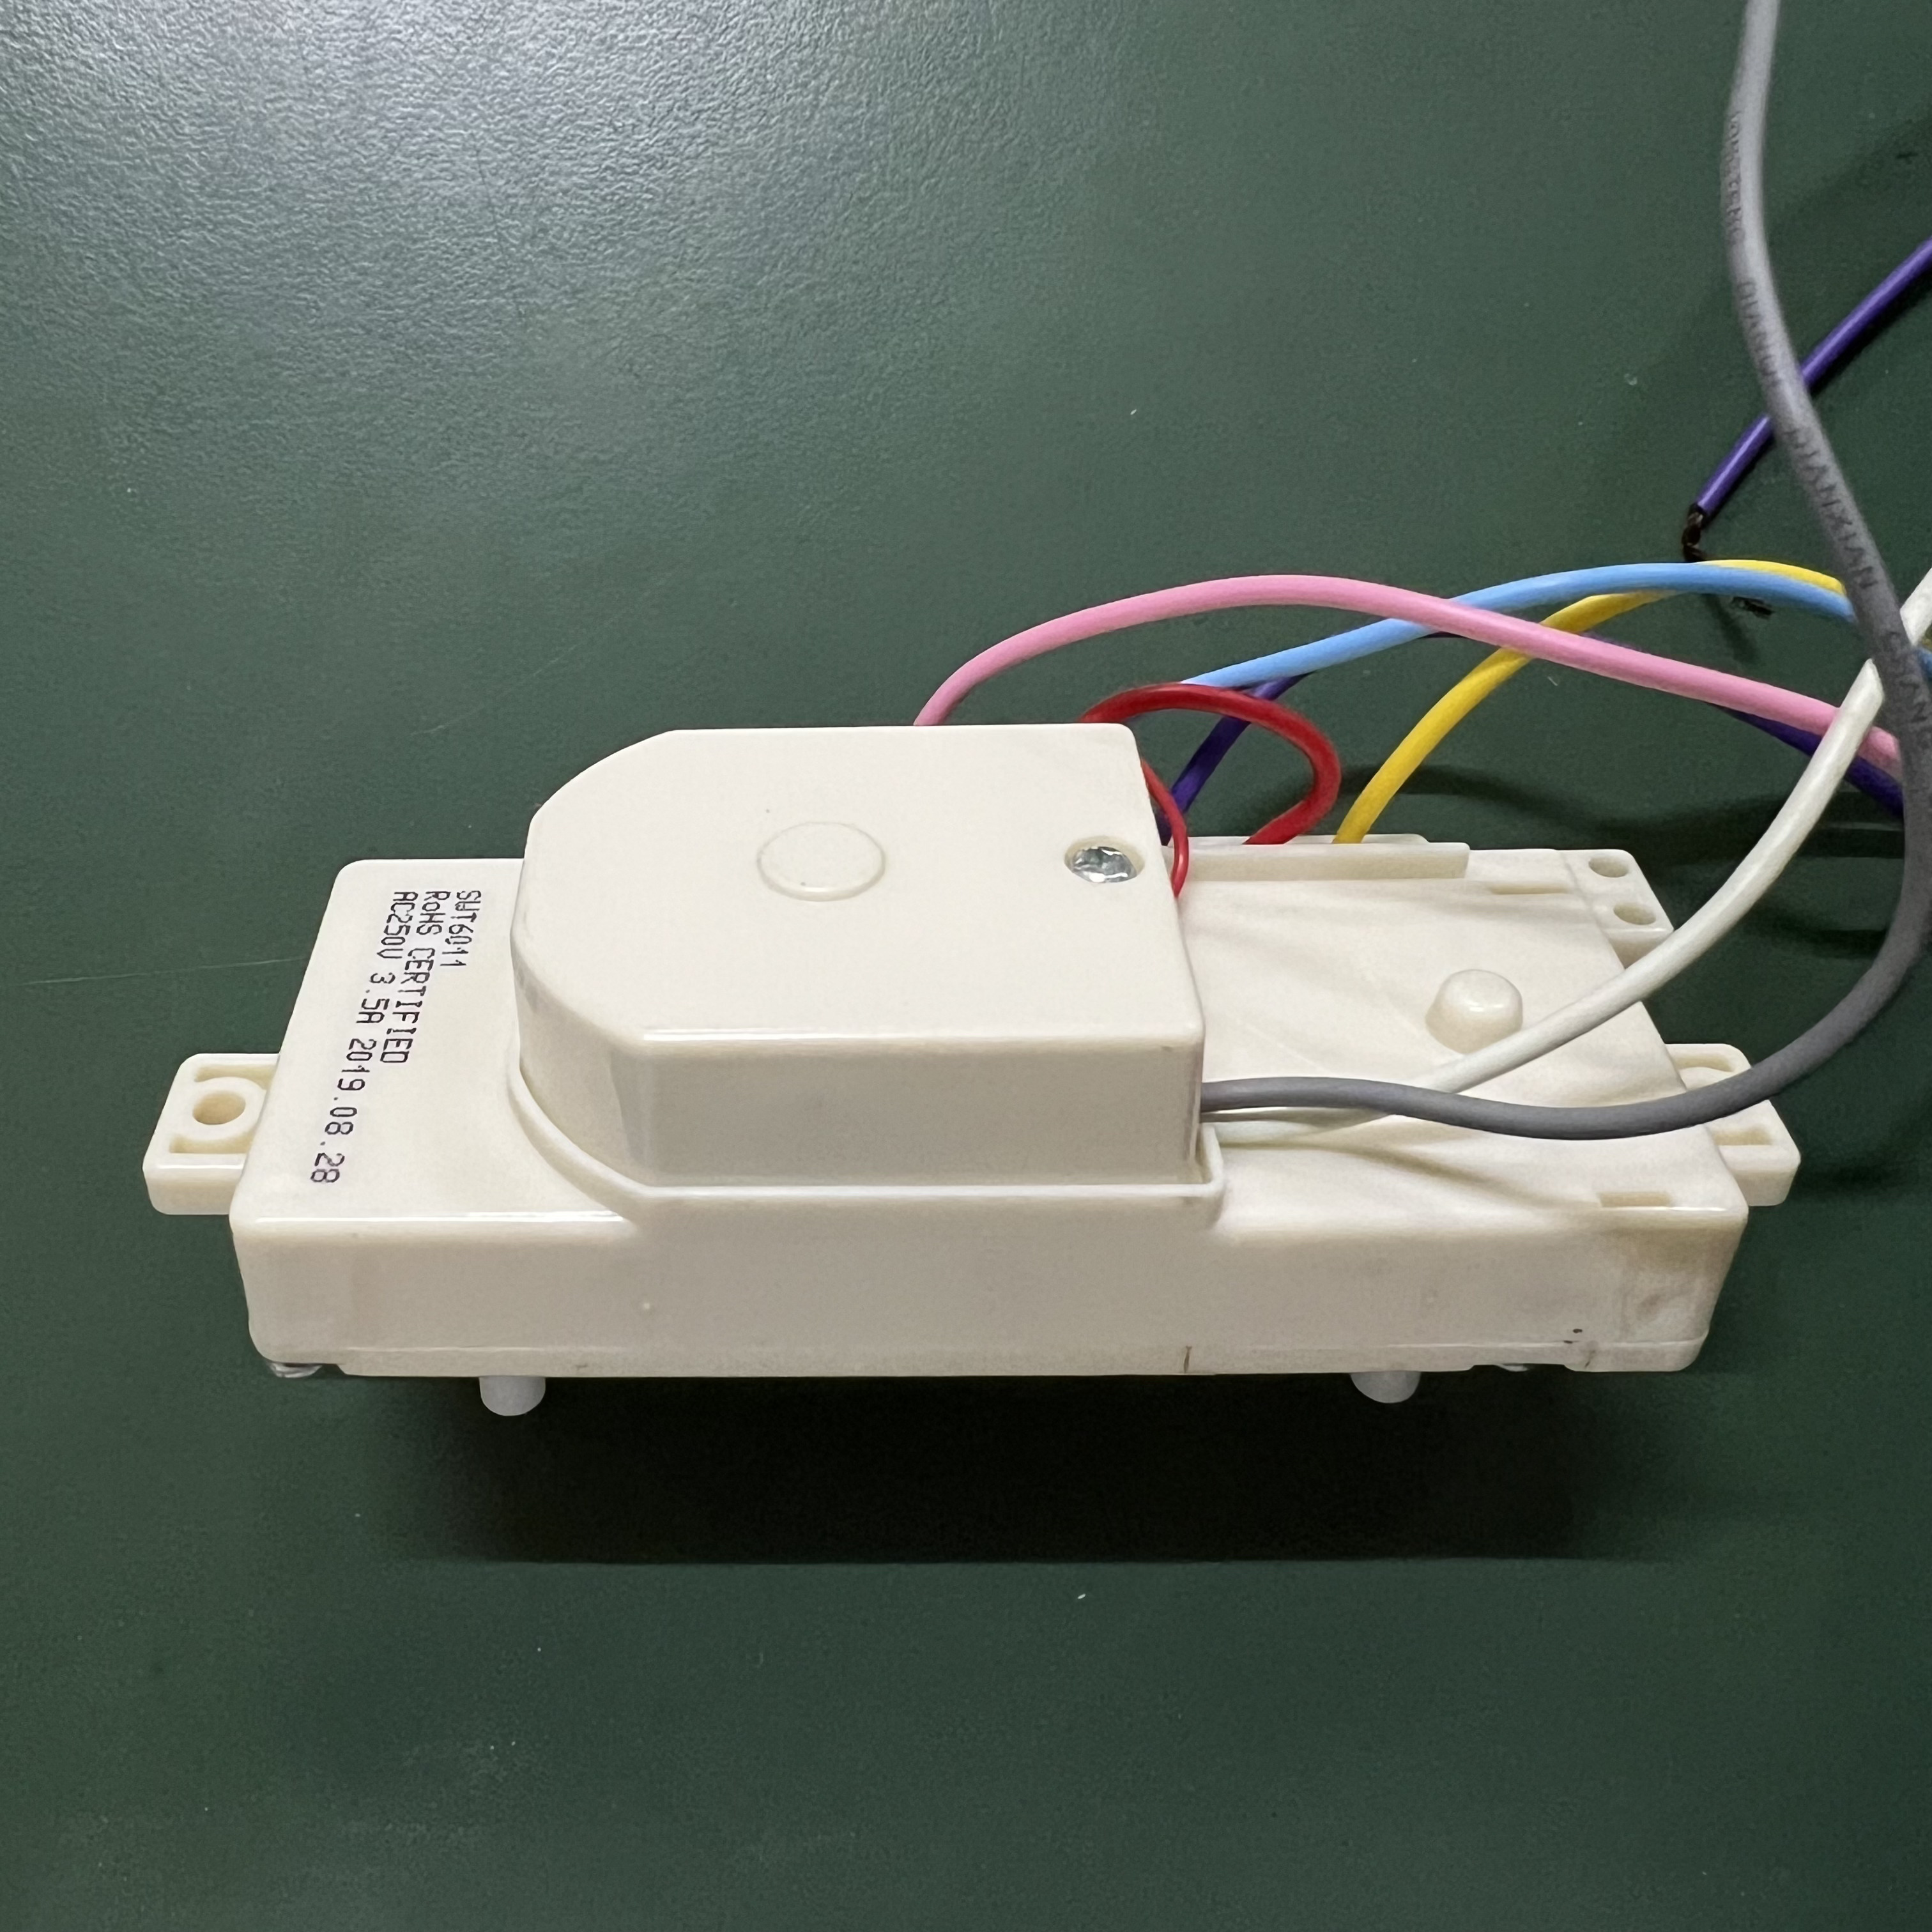rectangle_timer: (94, 690, 1835, 1474)
